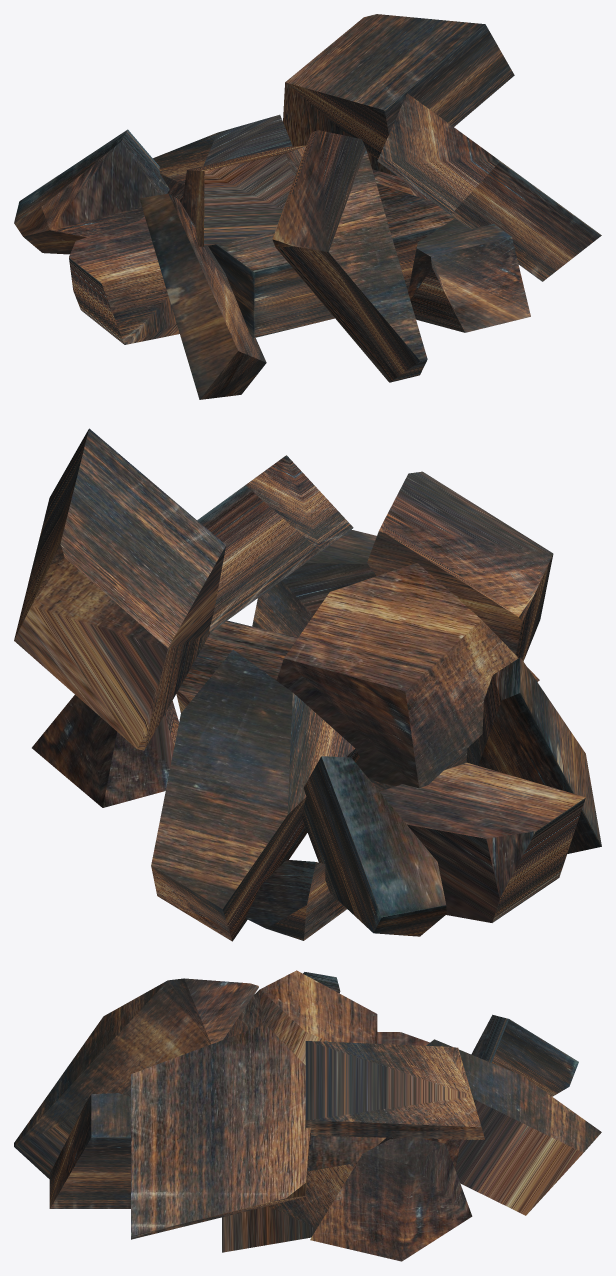
The model's file is RubbleFBX.FBX.
3 views of the same model, one above another, from view 1: azimuth 30°, elevation 25°; view 2: azimuth 150°, elevation 25°; view 3: azimuth 270°, elevation 25° (orthographic). The views are drawn at different scales.
Parts seen in each view (by area): view 1: Box001_Part_3, Box001_Part_4, Box001_Part_16, Box001_Part_13, Box001_Part_10, Box001_Part_9, Box001_Part_14, Box001_Part_6, Box001_Part_1, Box001_Part_20, Box001_Part_2; view 2: Box001_Part_4, Box001_Part_1, Box001_Part_20, Box001_Part_6, Box001_Part_3, Box001_Part_9, Box001_Part_16, Box001_Part_13, Box001_Part_2, Box001_Part_10, Box001_Part_5, Box001_Part_14; view 3: Box001_Part_16, Box001_Part_3, Box001_Part_4, Box001_Part_20, Box001_Part_2, Box001_Part_10, Box001_Part_1, Box001_Part_14, Box001_Part_9, Box001_Part_6.
Part boxes in pixels (<box>): Box001_Part_3: <box>272,130,427,382</box>; Box001_Part_4: <box>283,14,514,175</box>; Box001_Part_16: <box>377,93,601,281</box>; Box001_Part_13: <box>139,193,266,399</box>; Box001_Part_10: <box>408,218,530,332</box>; Box001_Part_9: <box>14,129,169,254</box>; Box001_Part_14: <box>208,183,454,337</box>; Box001_Part_6: <box>69,219,179,344</box>; Box001_Part_1: <box>182,145,306,246</box>; Box001_Part_20: <box>153,114,292,203</box>; Box001_Part_2: <box>372,169,431,201</box>; Box001_Part_4: <box>14,428,225,750</box>; Box001_Part_1: <box>276,563,539,788</box>; Box001_Part_20: <box>151,650,359,941</box>; Box001_Part_6: <box>380,762,585,922</box>; Box001_Part_3: <box>367,471,553,661</box>; Box001_Part_9: <box>301,756,446,936</box>; Box001_Part_16: <box>197,455,353,633</box>; Box001_Part_13: <box>466,657,601,853</box>; Box001_Part_2: <box>32,695,178,807</box>; Box001_Part_10: <box>252,529,376,637</box>; Box001_Part_5: <box>245,859,346,940</box>; Box001_Part_14: <box>176,620,467,791</box>; Box001_Part_16: <box>131,1024,310,1239</box>; Box001_Part_3: <box>14,978,258,1178</box>; Box001_Part_4: <box>305,1041,484,1139</box>; Box001_Part_20: <box>398,1039,601,1215</box>; Box001_Part_2: <box>310,1137,472,1261</box>; Box001_Part_10: <box>49,1093,130,1208</box>; Box001_Part_1: <box>223,970,377,1064</box>; Box001_Part_14: <box>222,1136,394,1252</box>; Box001_Part_9: <box>471,1014,578,1096</box>; Box001_Part_6: <box>377,1032,429,1138</box>.
Size of the model in its own units: 97.59 by 63.35 by 111.
